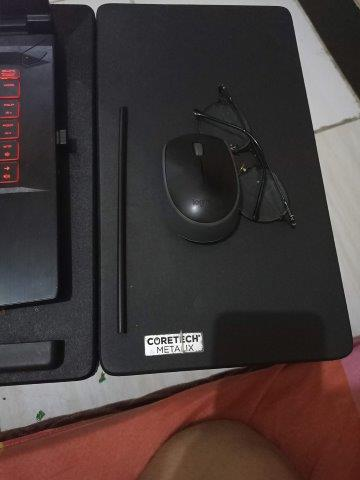sedotan: (117, 107, 128, 332)
